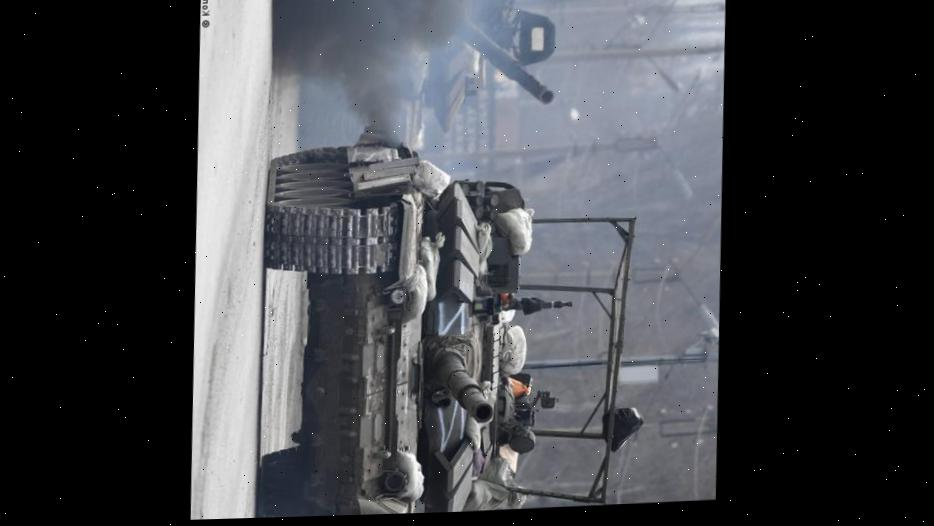tank: (249, 128, 568, 518), (258, 0, 561, 154)
